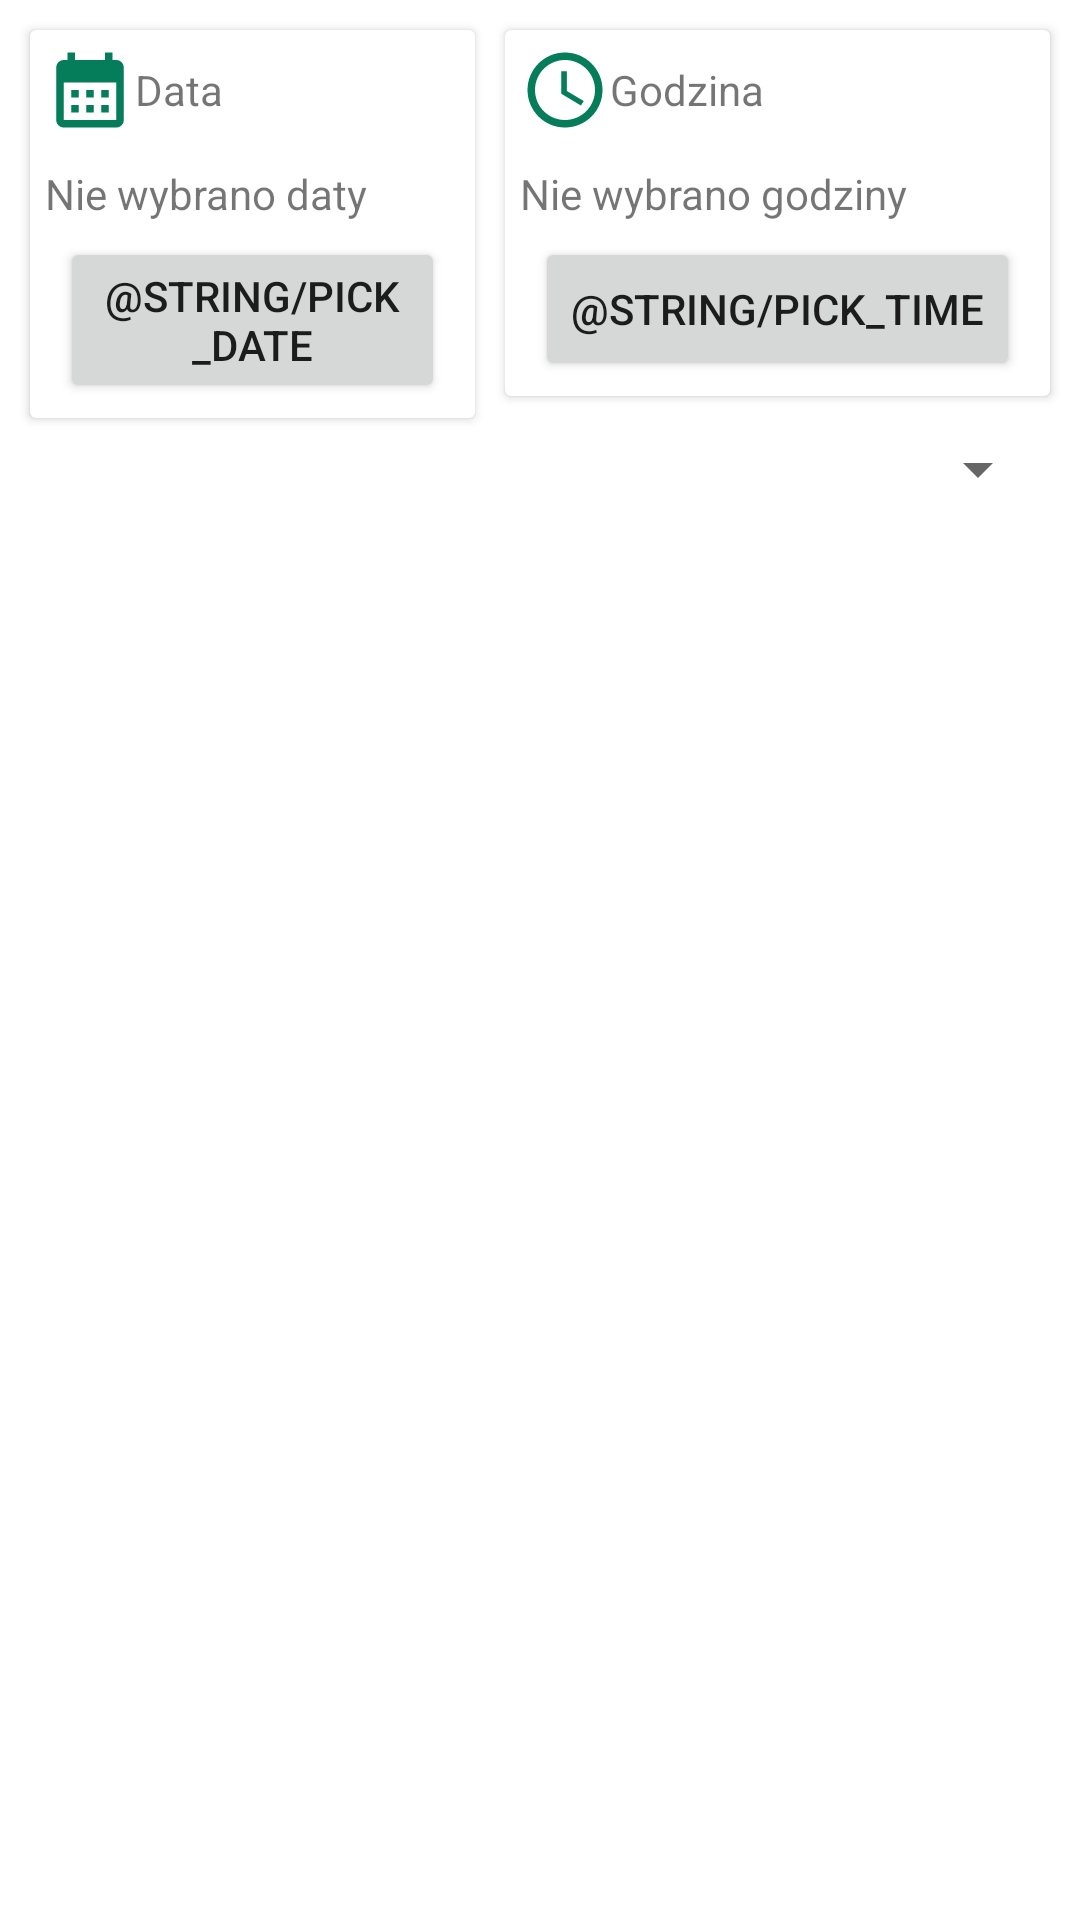

Where icons sit on this 1080 × 1920 app screen, as (left=x1, top=y1, right=x2, bottom=y2):
access time: (left=527, top=52, right=603, bottom=128)
calendar month: (left=56, top=52, right=124, bottom=128)
